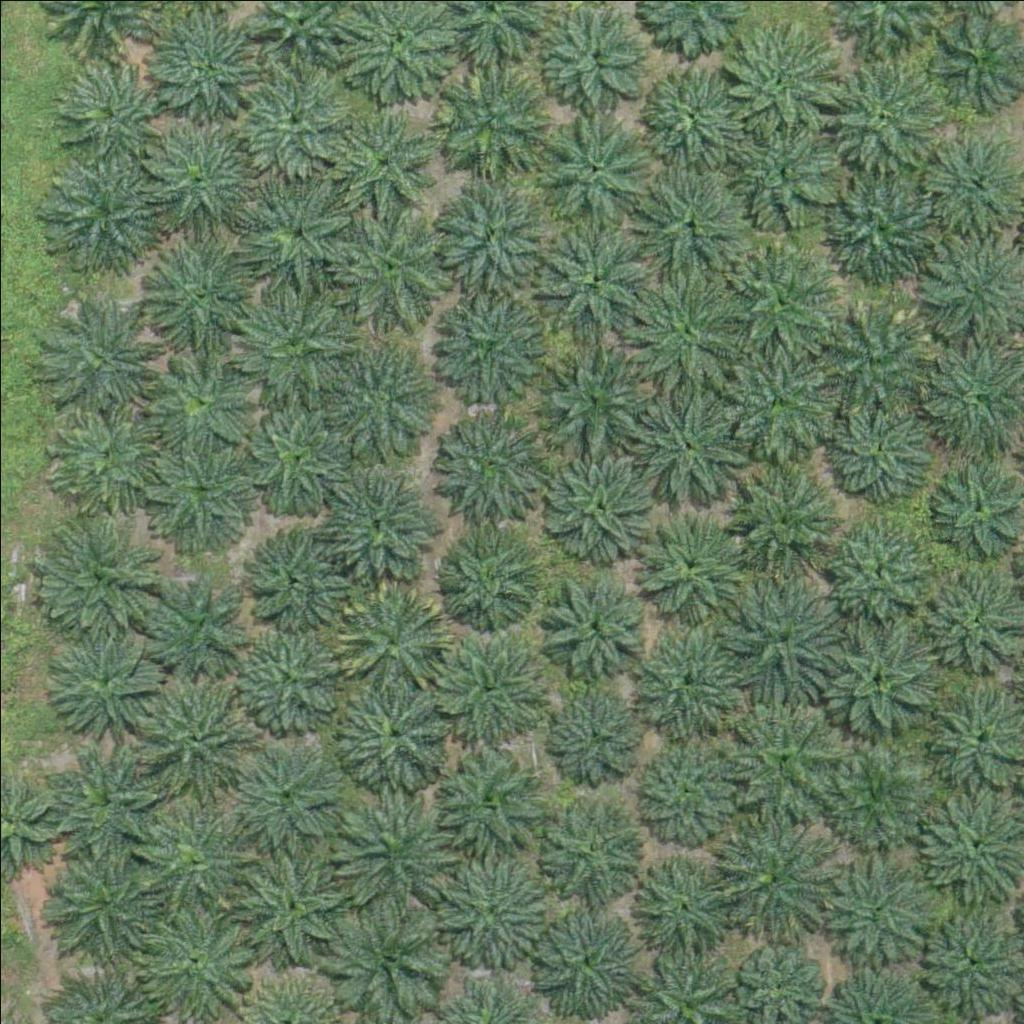Kelapa_Sawit: (43, 837, 168, 963), (37, 616, 162, 742), (38, 520, 163, 646), (136, 668, 261, 794), (129, 796, 254, 922), (137, 893, 262, 1019), (232, 836, 357, 962), (334, 664, 459, 790), (340, 785, 465, 911), (316, 889, 441, 1015), (425, 737, 550, 863), (723, 567, 848, 693), (708, 813, 833, 939), (812, 604, 937, 730), (137, 428, 262, 554), (230, 392, 355, 518), (43, 390, 168, 516), (817, 163, 942, 289), (821, 52, 946, 178), (713, 7, 838, 133), (720, 105, 845, 231), (628, 268, 753, 394), (626, 164, 751, 290), (630, 57, 755, 183), (532, 103, 657, 229), (425, 400, 550, 526), (422, 282, 547, 408), (426, 56, 551, 182), (329, 200, 454, 326), (322, 332, 447, 458), (317, 460, 442, 586), (233, 269, 358, 395), (239, 166, 364, 292), (231, 44, 356, 170), (136, 107, 261, 233), (141, 228, 266, 354), (39, 290, 164, 416), (43, 145, 168, 271), (327, 568, 452, 693), (425, 626, 550, 751), (627, 383, 752, 508), (526, 221, 651, 346), (526, 333, 651, 458), (426, 170, 551, 295), (910, 556, 1023, 670), (142, 563, 255, 676), (228, 737, 341, 850), (230, 623, 343, 736), (629, 740, 742, 853), (818, 511, 931, 624), (725, 347, 838, 460), (823, 392, 936, 505), (816, 294, 929, 407), (47, 746, 159, 860), (434, 848, 546, 961), (532, 902, 644, 1015), (626, 619, 738, 732), (732, 702, 844, 815), (821, 848, 933, 961), (726, 468, 838, 581), (630, 506, 742, 619), (248, 534, 348, 635), (438, 534, 538, 635), (543, 574, 643, 675), (551, 681, 651, 782), (541, 798, 641, 899), (635, 853, 735, 954), (829, 747, 929, 848), (910, 909, 1010, 1010), (730, 253, 830, 354), (548, 451, 648, 552), (331, 107, 431, 208), (57, 55, 157, 156), (918, 122, 1018, 222), (150, 346, 250, 446)
